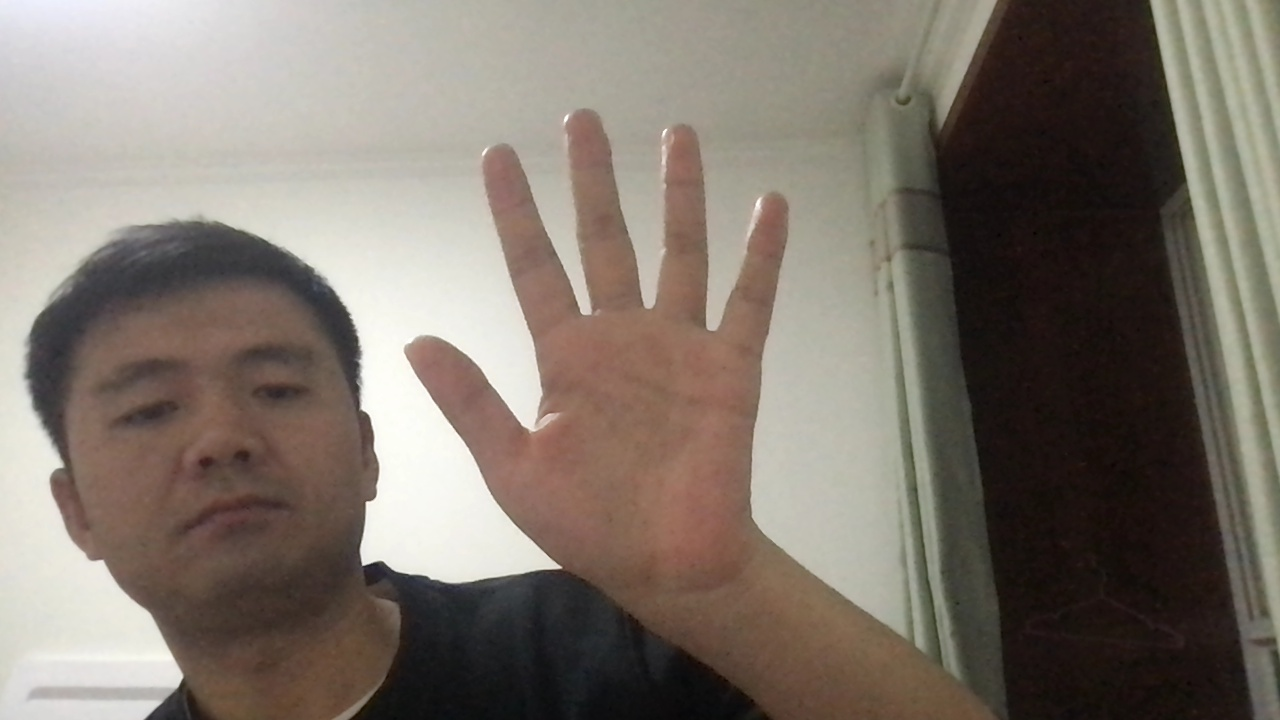hello: (394, 102, 797, 578)
